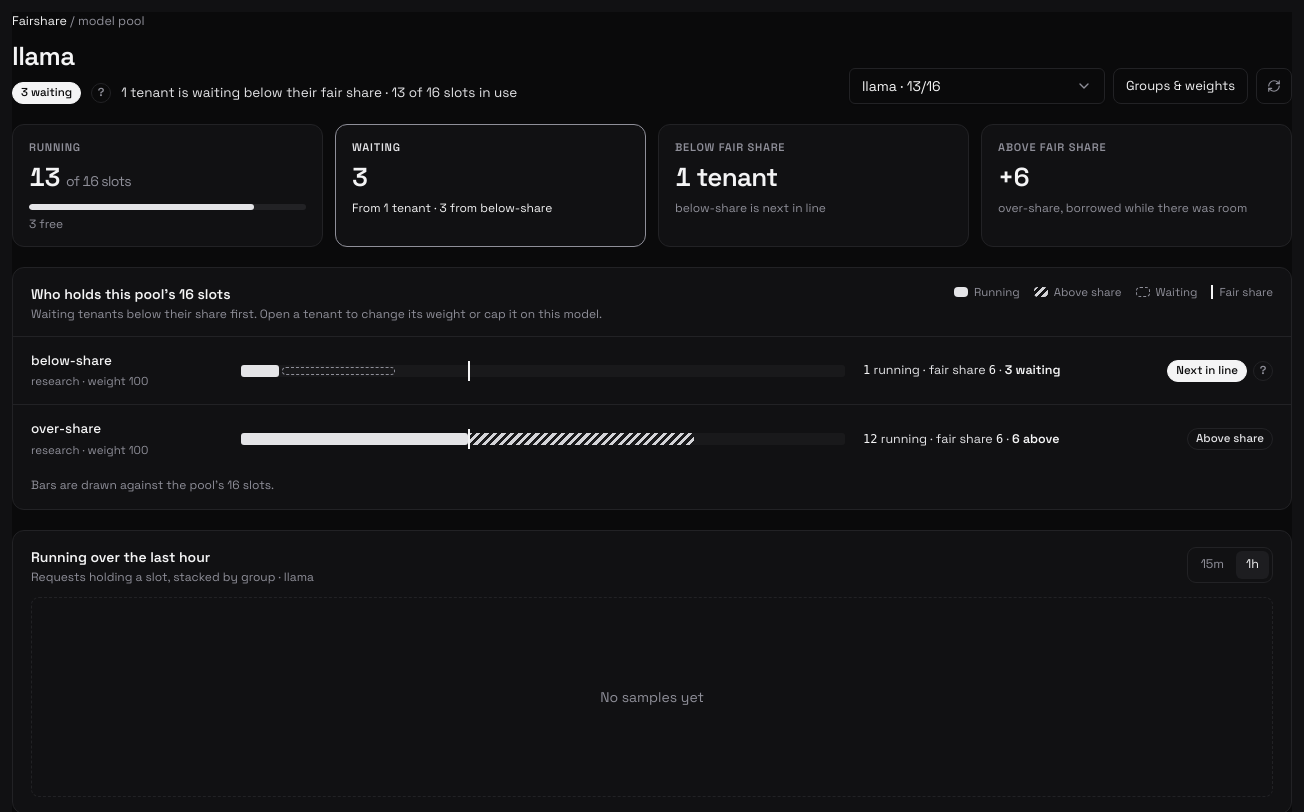
Test case: one pool › orders tenants by who is next in line and explains a wait behind a (?)
Click the 2nd button "?": (1263, 370) [1253,360,1273,380]
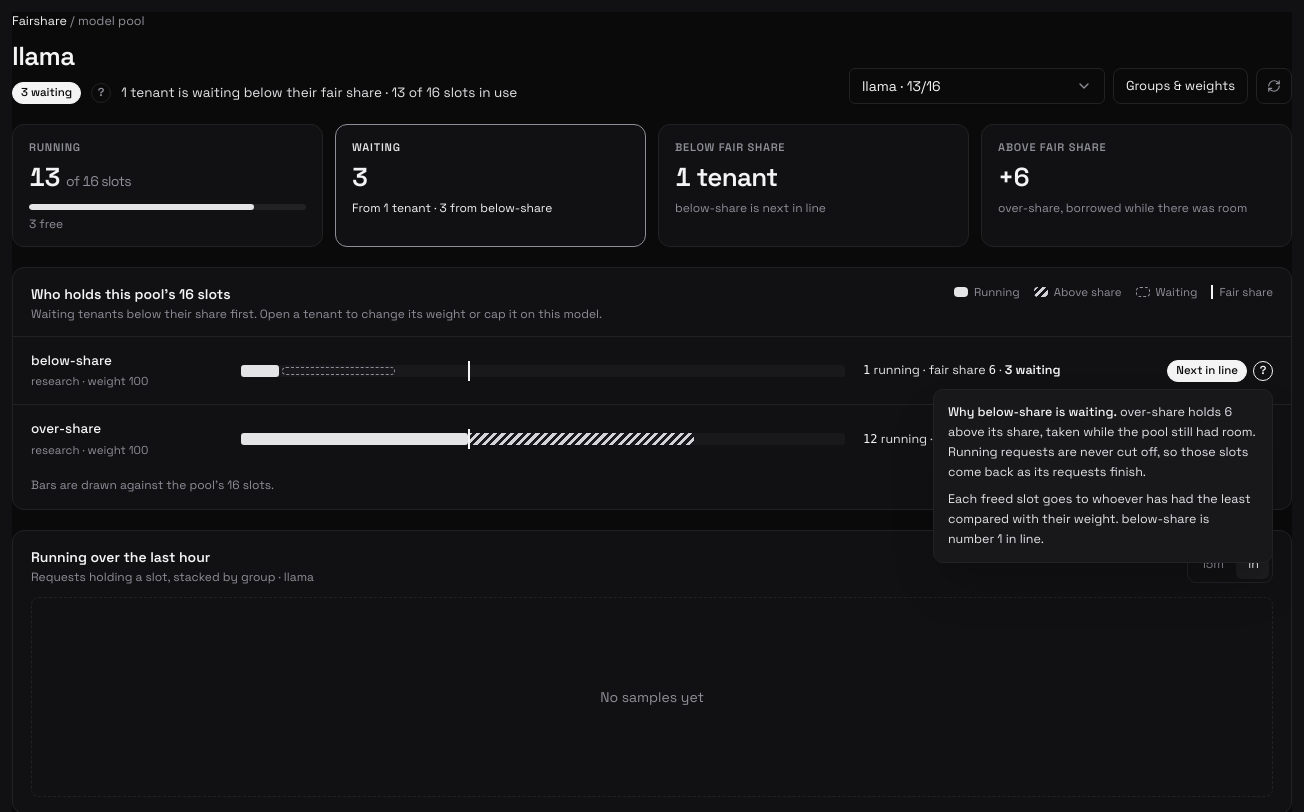
expect the tooltip shows "over-share holds 6 above its share": met, box [948,404,1255,480]
expect the tooltip shows "number 1 in line": met, box [948,511,1209,547]
